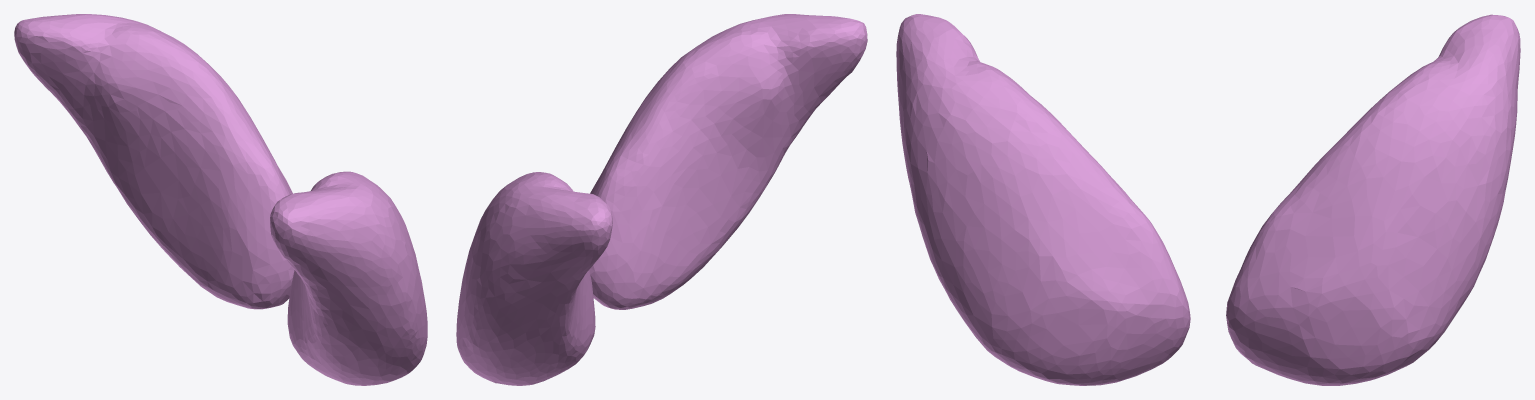
The picture shows the model from 3 angles, left to right: view 1: azimuth 30°, elevation 25°; view 2: azimuth 150°, elevation 25°; view 3: azimuth 270°, elevation 25°; orthographic projection. The views are drawn at different scales.
Visible parts, largest first — view 1: 4.obj; view 2: 4.obj; view 3: 4.obj.
Part boxes in pixels (bbox=[...]): 4.obj: bbox=[14, 14, 427, 385]; 4.obj: bbox=[456, 14, 867, 385]; 4.obj: bbox=[896, 14, 1520, 385].
Size of the model in its own units: 1807 by 2207 by 4359.
